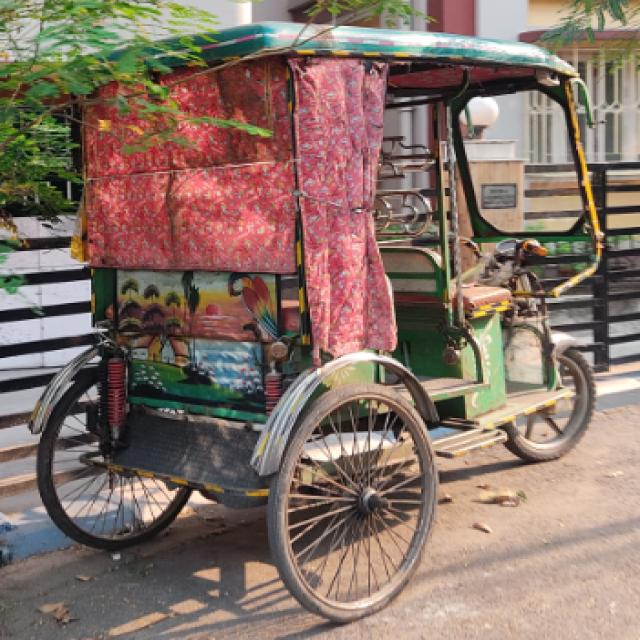rickshaw: (26, 19, 602, 626)
